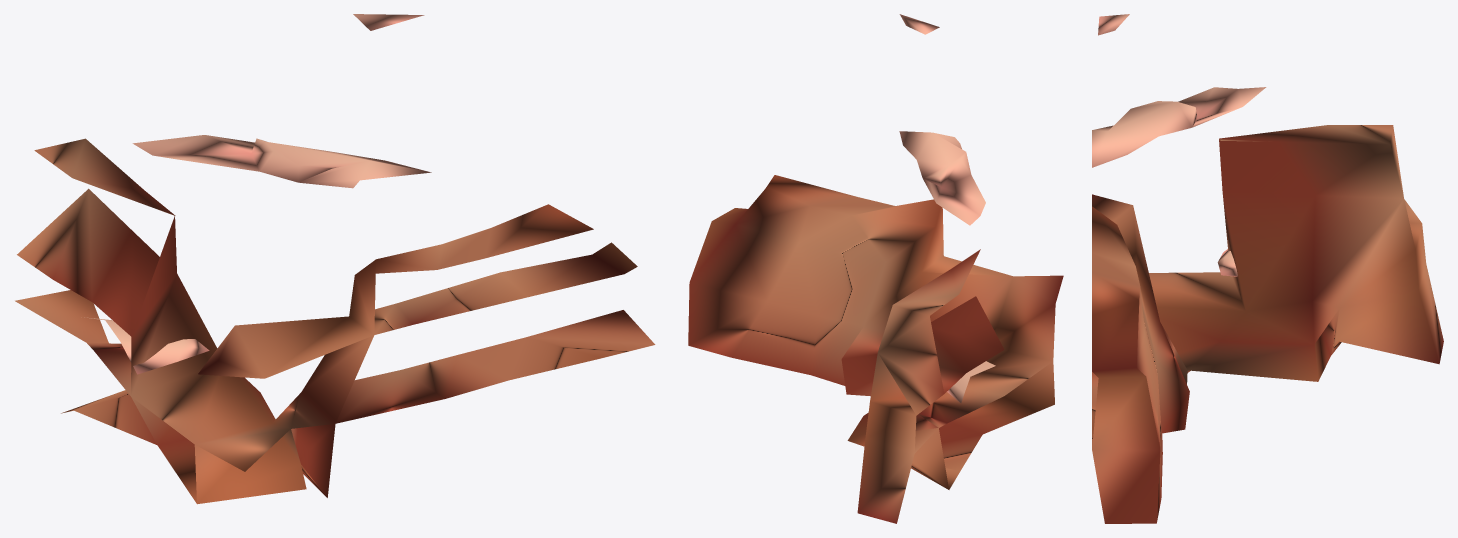
3 renders of one model, left to right at view 1: azimuth 30°, elevation 25°; view 2: azimuth 150°, elevation 25°; view 3: azimuth 270°, elevation 25°, orthographic. The views are drawn at different scales.
Parts seen in each view (by area): view 1: scene.l1.3.0 (×2); view 2: scene.l1.3.0 (×2); view 3: scene.l1.3.0 (×2).
Boxes of the visible parts, x1=… form: scene.l1.3.0 (×2): x1=15, y1=14, x2=655, y2=504; scene.l1.3.0 (×2): x1=688, y1=14, x2=1063, y2=523; scene.l1.3.0 (×2): x1=1092, y1=14, x2=1443, y2=523.
Size of the model in its own units: 78.27 by 76.48 by 62.44.
